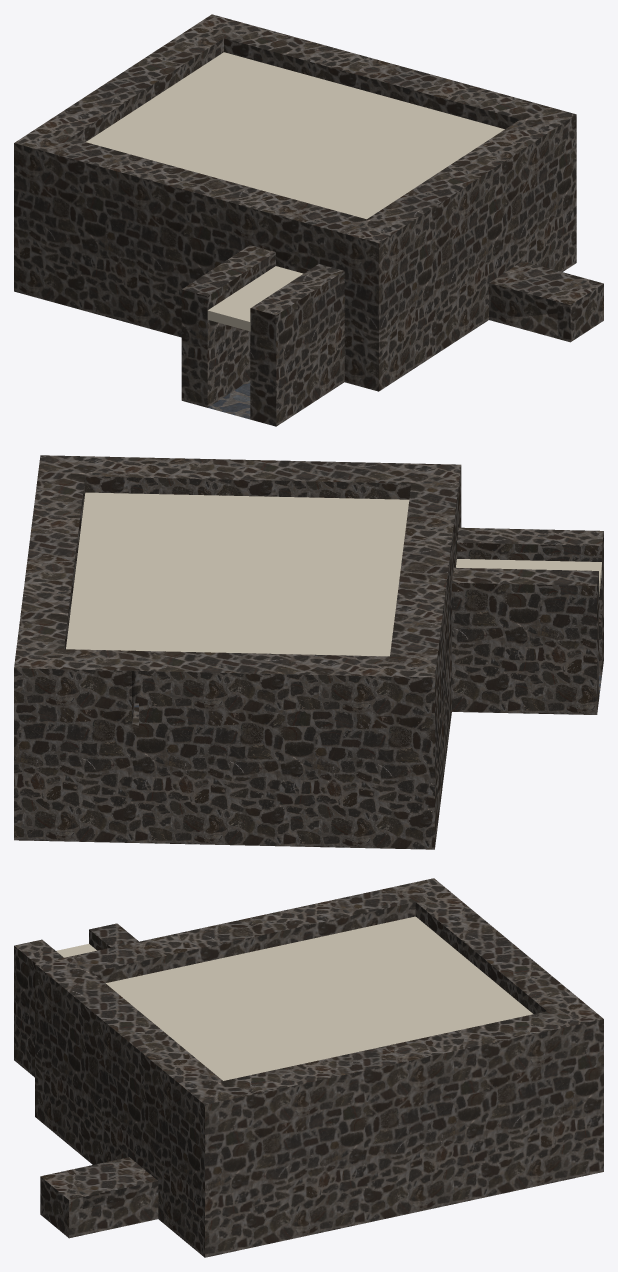
File: tyrma-e101.glb
3 renders of one model, top to bottom at view 1: azimuth 30°, elevation 25°; view 2: azimuth 150°, elevation 25°; view 3: azimuth 270°, elevation 25°, orthographic. The views are drawn at different scales.
Parts seen in each view (by area): view 1: tyrma_e101_architecture; view 2: tyrma_e101_architecture; view 3: tyrma_e101_architecture.
Boxes of the visible parts, <box> form: tyrma_e101_architecture: <box>14,14,603,426</box>; tyrma_e101_architecture: <box>14,455,603,849</box>; tyrma_e101_architecture: <box>14,878,603,1257</box>.
Size of the model in its own units: 10.18 by 3.2 by 11.2.
Materials: 5 (3 with a texture image).
